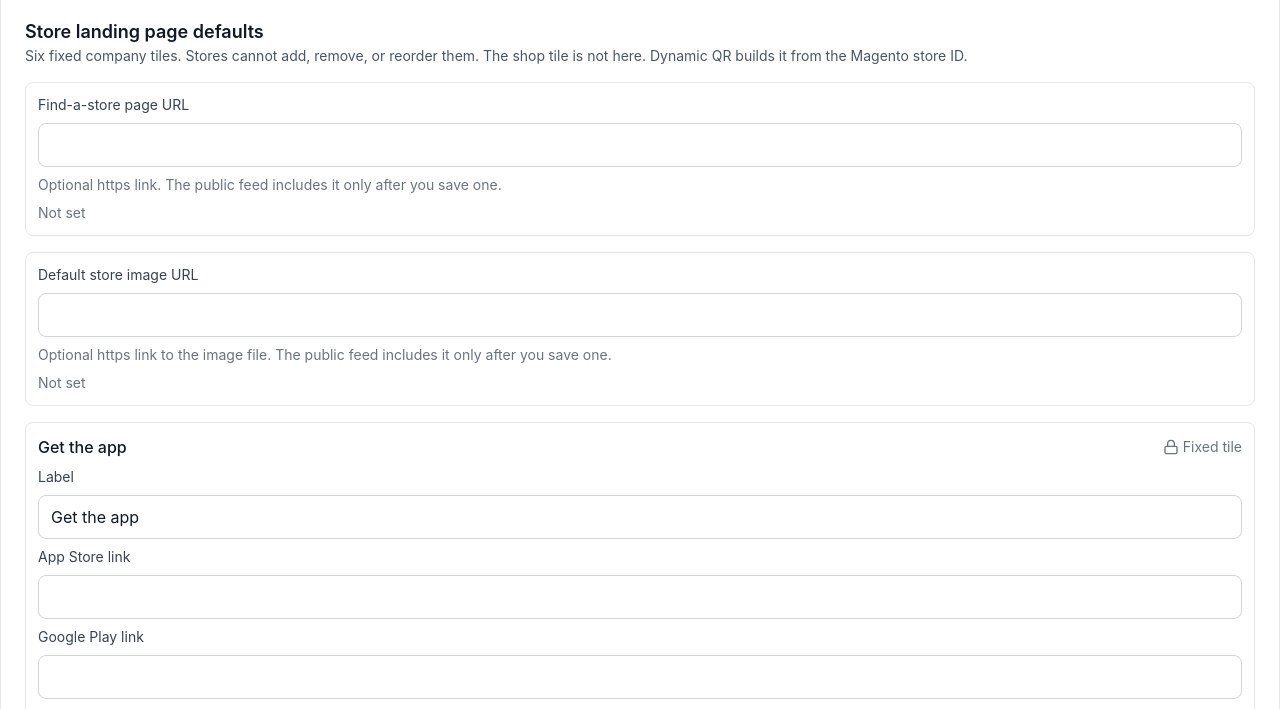
store page screens › Admin tab has no add-tile control
This screenshot has width=1280, height=709.
Check: the heading "Store landing page defaults" is shown, box [25, 21, 264, 42]
Check: the heading "Get the app" is shown, box [38, 435, 127, 459]
In the field labelled "Find-a-store page URL": (640, 145) [38, 123, 1242, 167], type "http://www.shiekh.com/stores"
(page scrolled)
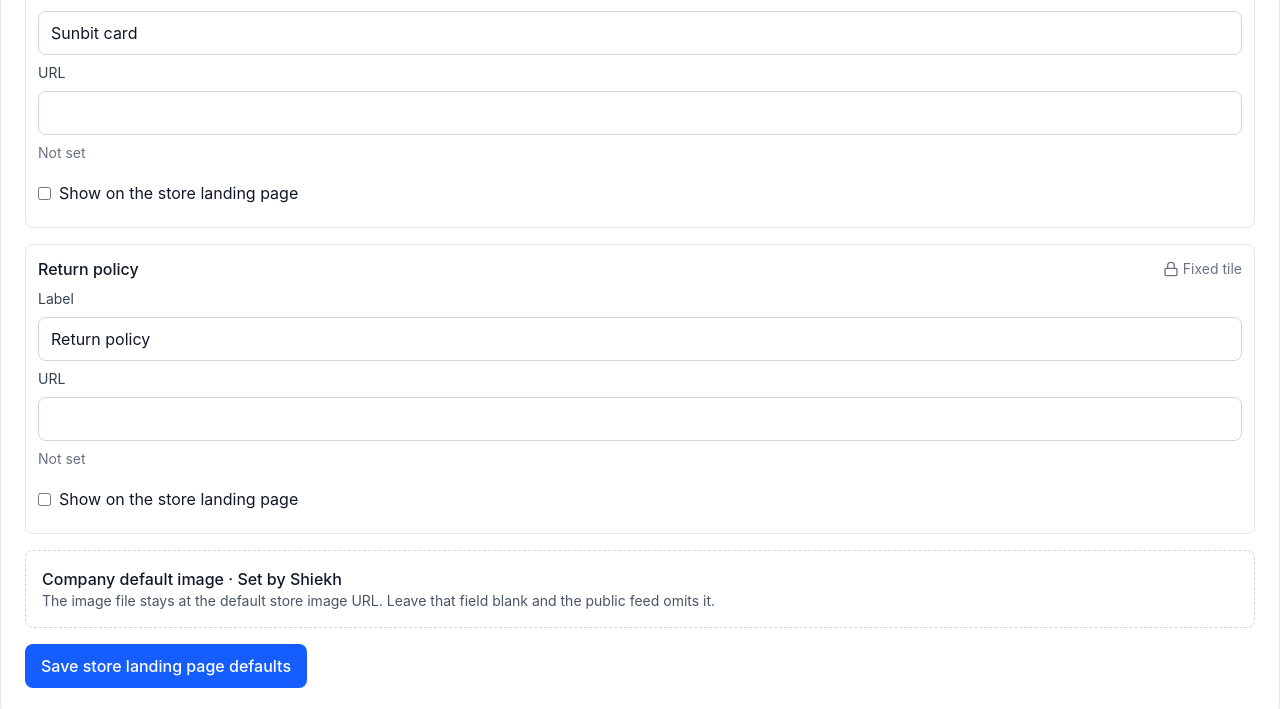
Click the button "Save store landing page defaults": (166, 666) [25, 644, 307, 688]
(page scrolled)
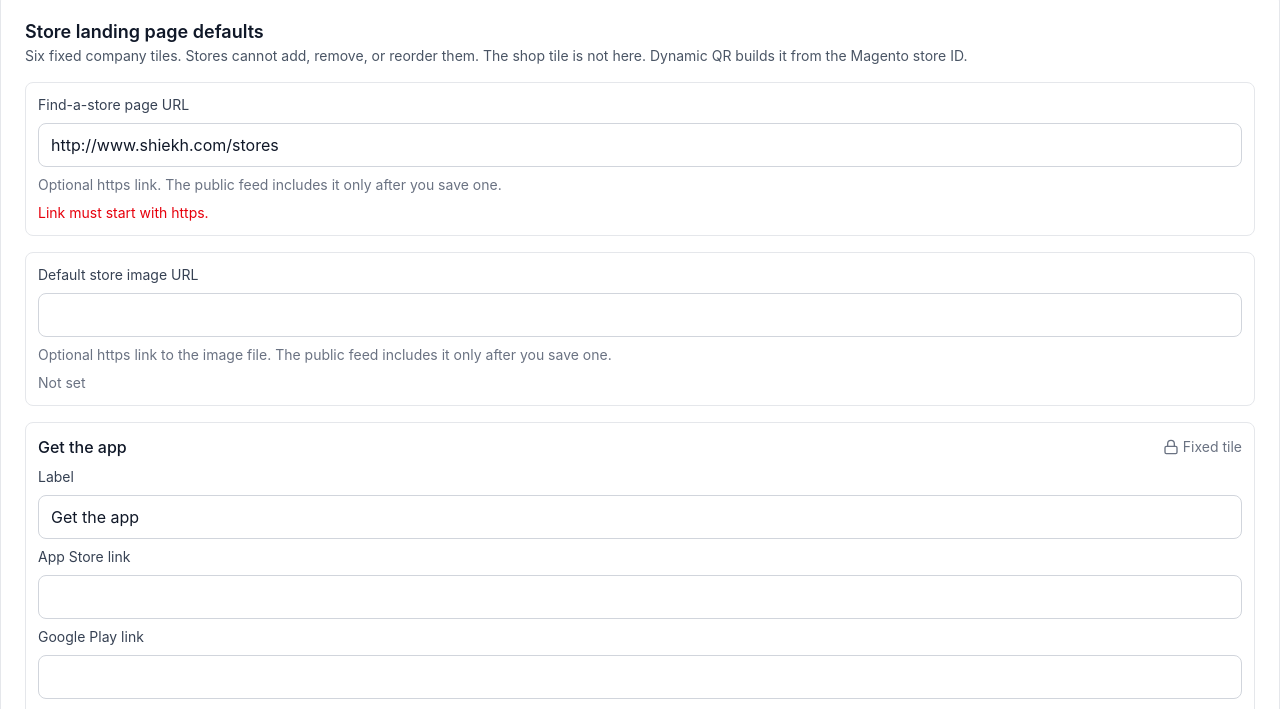
Check: the text "Link must start with https." is shown, box [38, 204, 209, 221]
